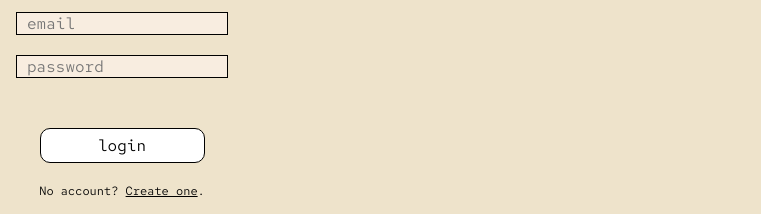
Test case: LoginState component › login should be unsuccessful › when missing password
Type "test@test.com" into the field with placeholder "email". click: x=122, y=24
box: [16, 12, 228, 35]
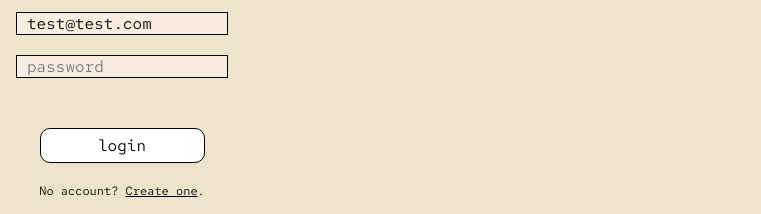
Click the button "login". click: x=122, y=146
box: [40, 128, 204, 163]
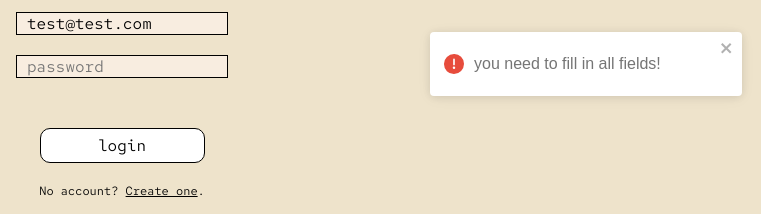
Now the text "you need to fill in all fields!" is shown, box [474, 55, 661, 72]
